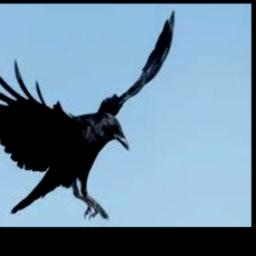Crow: (0, 10, 176, 222)
